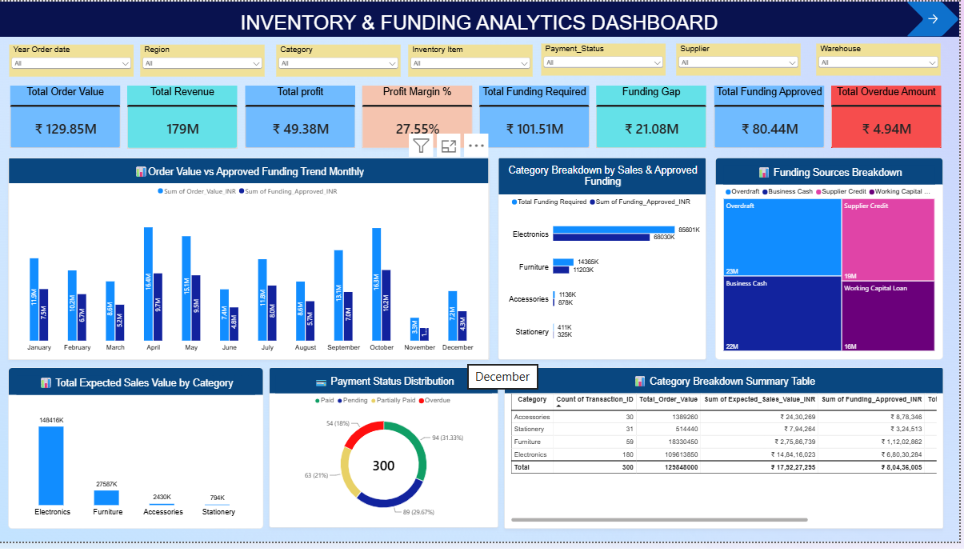

This screenshot's page, from the dashboard's own definition file:
{"tool":"powerbi","page":{"name":"IFS Dashboard Page 1","canvas":[1920,1080],"ordinal":0},"visuals":[{"type":"cardVisual","title":"Total Order Value","fields":{"Data":["Sum(inventory_funding_system_dataset.Order_Value_INR)"]},"box":[22,168.2,220,125],"z":0,"group":"g1"},{"type":"donutChart","title":"💳 Payment Status Distribution","fields":{"Category":["inventory_funding_system_dataset.Payment_Status"],"Y":["CountNonNull(inventory_funding_system_dataset.Payment_Status)"]},"box":[540,732,458,320],"z":0},{"type":"cardVisual","title":"Total Funding Required","fields":{"Data":["inventory_funding_system_dataset.Total Funding Required"]},"box":[960.3,168.2,220,125],"z":1000,"group":"g1"},{"type":"tableEx","title":"📊 Category Breakdown Summary Table","fields":{"Values":["inventory_funding_system_dataset.Category","inventory_funding_system_dataset.Transaction_ID","inventory_funding_system_dataset.Total_Order_Value","Sum(inventory_funding_system_dataset.Expected_Sales_Value_INR)","Sum(inventory_funding_system_dataset.Funding_Approved_INR)","inventory_funding_system_dataset.Total Funding Required","Sum(inventory_funding_system_dataset.Outstanding_Funding_INR)"]},"box":[1010,732,878,322],"z":1000},{"type":"cardVisual","title":"Total Funding Approved","fields":{"Data":["Sum(inventory_funding_system_dataset.Funding_Approved_INR)"]},"box":[1429.4,168.2,220,125],"z":2000,"group":"g1"},{"type":"treemap","title":"📊 Funding Sources Breakdown","fields":{"Group":["inventory_funding_system_dataset.Funding_Source"],"Values":["Sum(inventory_funding_system_dataset.Funding_Approved_INR)"]},"box":[1432,312,456,404],"z":2000},{"type":"textbox","title":"INVENTORY & FUNDING ANALYTICS DASHBOARD","box":[0,0,1920,70],"z":3000},{"type":"cardVisual","title":"Total Revenue","fields":{"Data":["inventory_funding_system_dataset.Total Revenue"]},"box":[256.6,167.7,220,126],"z":3000,"group":"g1"},{"type":"cardVisual","title":"Total profit","fields":{"Data":["inventory_funding_system_dataset.Total Profit"]},"box":[491.1,168.2,220,125],"z":4000,"group":"g1"},{"type":"columnChart","title":"📊 Total Expected Sales Value  by Category","fields":{"Category":["inventory_funding_system_dataset.Category"],"Y":["Sum(inventory_funding_system_dataset.Expected_Sales_Value_INR)"]},"box":[18,732,510,322],"z":4000},{"type":"group","id":"g1","title":"Group 1","box":[22,167.7,1862,126],"z":5000},{"type":"cardVisual","title":"Profit Margin %","fields":{"Data":["inventory_funding_system_dataset.Profit Margin %"]},"box":[725.7,168.2,220,125],"z":5000,"group":"g1"},{"type":"group","id":"g2","title":"Group 2","box":[19,84,1862,66],"z":6000},{"type":"cardVisual","title":"Funding Gap","fields":{"Data":["inventory_funding_system_dataset.Funding Gap"]},"box":[1194.9,168.2,220,125],"z":6000,"group":"g1"},{"type":"cardVisual","title":"Total Overdue Amount","fields":{"Data":["inventory_funding_system_dataset.Total Overdue Amount"]},"box":[1664,168.2,220,125],"z":7000,"group":"g1"},{"type":"clusteredColumnChart","title":"📊Order Value vs Approved Funding Trend Monthly","fields":{"Category":["inventory_funding_system_dataset.Order_Date.Variation.Date Hierarchy.Month"],"Y":["Sum(inventory_funding_system_dataset.Order_Value_INR)","Sum(inventory_funding_system_dataset.Funding_Approved_INR)"]},"box":[18,312,962,404],"z":7000},{"type":"clusteredBarChart","title":"Category Breakdown by Sales & Approved Funding","fields":{"Category":["inventory_funding_system_dataset.Category"],"Y":["inventory_funding_system_dataset.Total Funding Required","Sum(inventory_funding_system_dataset.Funding_Approved_INR)"]},"box":[998,312,416,404],"z":8000},{"type":"actionButton","box":[1814,0,106,70],"z":9000},{"type":"slicer","fields":{"Values":["inventory_funding_system_dataset.Region"]},"box":[281.6,85.8,248.7,64.2],"z":9000,"group":"g2"},{"type":"slicer","fields":{"Values":["inventory_funding_system_dataset.Category"]},"box":[552.1,85.8,248.7,64.2],"z":12000,"group":"g2"},{"type":"slicer","fields":{"Values":["inventory_funding_system_dataset.Product_Name"]},"box":[816.7,85.8,248.7,64.2],"z":13000,"group":"g2"},{"type":"slicer","fields":{"Values":["inventory_funding_system_dataset.Payment_Status"]},"box":[1083.3,84,248.7,64.2],"z":14000,"group":"g2"},{"type":"slicer","fields":{"Values":["inventory_funding_system_dataset.Supplier"]},"box":[1353.8,84,248.7,64.2],"z":15000,"group":"g2"},{"type":"slicer","fields":{"Values":["inventory_funding_system_dataset.Warehouse"]},"box":[1632.3,84,248.7,64.2],"z":16000,"group":"g2"},{"type":"slicer","fields":{"Values":["inventory_funding_system_dataset.Order_Date.Variation.Date Hierarchy.Year","inventory_funding_system_dataset.Order_Date.Variation.Date Hierarchy.Quarter","inventory_funding_system_dataset.Order_Date.Variation.Date Hierarchy.Month","inventory_funding_system_dataset.Order_Date.Variation.Date Hierarchy.Day"]},"box":[19,85.8,248.7,64.2],"z":19000,"group":"g2"}]}

Visuals, with their boxes in screenshot pixels (x1, y1, x2, y2), scaled from the page's 1920x1080 canvas onto the 964x549 screenshot:
"Total Order Value" cardVisual: (left=11, top=86, right=122, bottom=149)
"💳 Payment Status Distribution" donutChart: (left=271, top=372, right=501, bottom=535)
"Total Funding Required" cardVisual: (left=482, top=86, right=593, bottom=149)
"📊 Category Breakdown Summary Table" tableEx: (left=507, top=372, right=948, bottom=536)
"Total Funding Approved" cardVisual: (left=718, top=86, right=828, bottom=149)
"📊 Funding Sources Breakdown" treemap: (left=719, top=159, right=948, bottom=364)
"INVENTORY & FUNDING ANALYTICS DASHBOARD" textbox: (left=0, top=0, right=963, bottom=36)
"Total Revenue" cardVisual: (left=129, top=85, right=239, bottom=149)
"Total profit" cardVisual: (left=247, top=86, right=357, bottom=149)
"📊 Total Expected Sales Value  by Category" columnChart: (left=9, top=372, right=265, bottom=536)
"Group 1" group: (left=11, top=85, right=946, bottom=149)
"Profit Margin %" cardVisual: (left=364, top=86, right=475, bottom=149)
"Group 2" group: (left=10, top=43, right=944, bottom=76)
"Funding Gap" cardVisual: (left=600, top=86, right=710, bottom=149)
"Total Overdue Amount" cardVisual: (left=835, top=86, right=946, bottom=149)
"📊Order Value vs Approved Funding Trend Monthly" clusteredColumnChart: (left=9, top=159, right=492, bottom=364)
"Category Breakdown by Sales & Approved Funding" clusteredBarChart: (left=501, top=159, right=710, bottom=364)
actionButton: (left=911, top=0, right=963, bottom=36)
slicer - inventory_funding_system_dataset.Region: (left=141, top=44, right=266, bottom=76)
slicer - inventory_funding_system_dataset.Category: (left=277, top=44, right=402, bottom=76)
slicer - inventory_funding_system_dataset.Product_Name: (left=410, top=44, right=535, bottom=76)
slicer - inventory_funding_system_dataset.Payment_Status: (left=544, top=43, right=669, bottom=75)
slicer - inventory_funding_system_dataset.Supplier: (left=680, top=43, right=805, bottom=75)
slicer - inventory_funding_system_dataset.Warehouse: (left=820, top=43, right=944, bottom=75)
slicer - inventory_funding_system_dataset.Order_Date.Variation.Date Hierarchy.Year x inventory_funding_system_dataset.Order_Date.Variation.Date Hierarchy.Quarter: (left=10, top=44, right=134, bottom=76)
